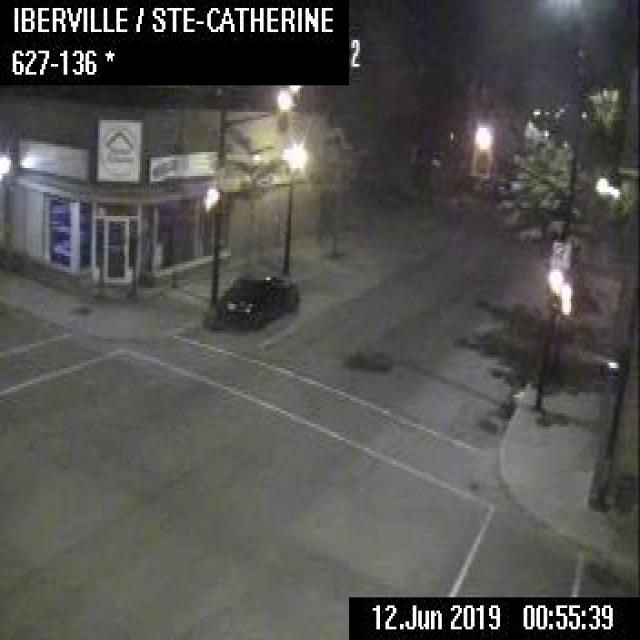vehicle: (215, 272, 298, 325)
